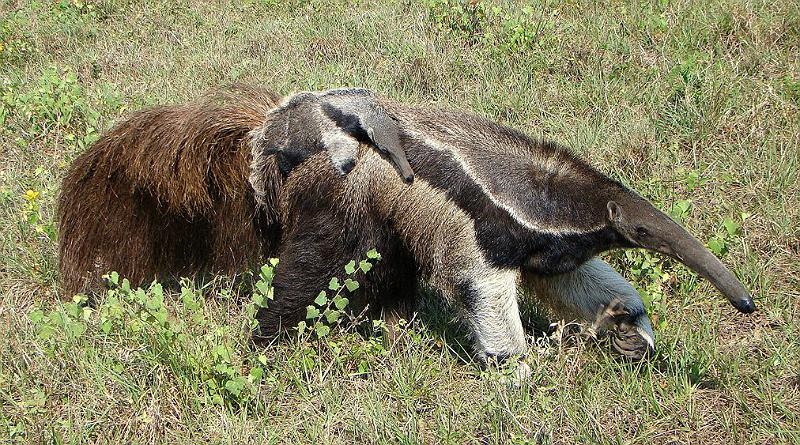TamanduaBandeira: (63, 84, 765, 382), (236, 88, 419, 199)
